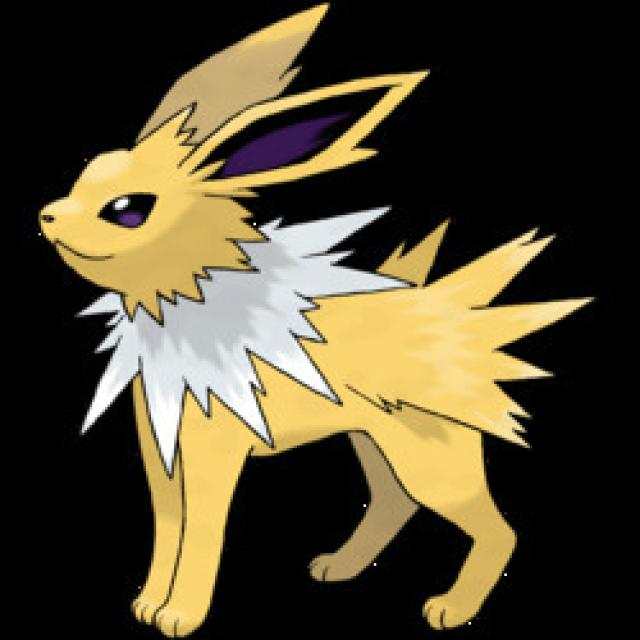Jolteon: (37, 76, 515, 614)
